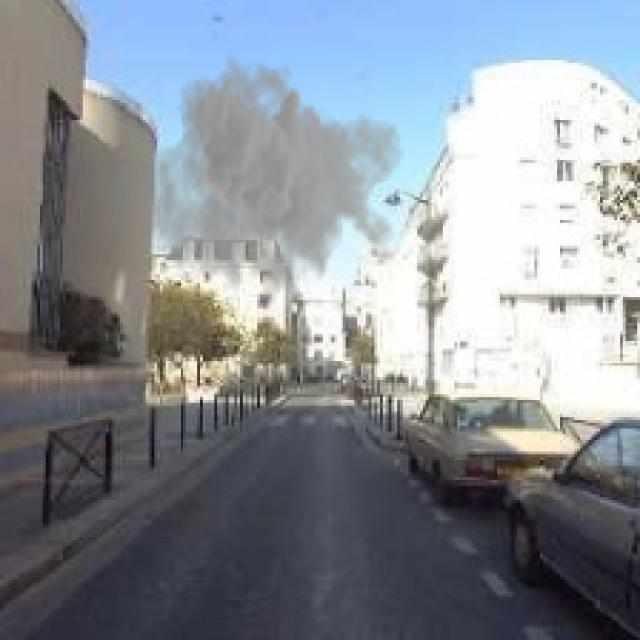smoke: (140, 52, 406, 317)
